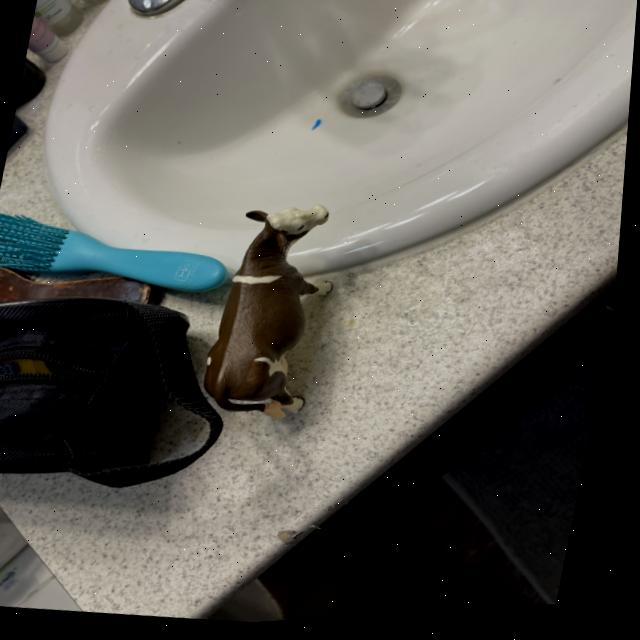cow: (206, 197, 335, 425)
